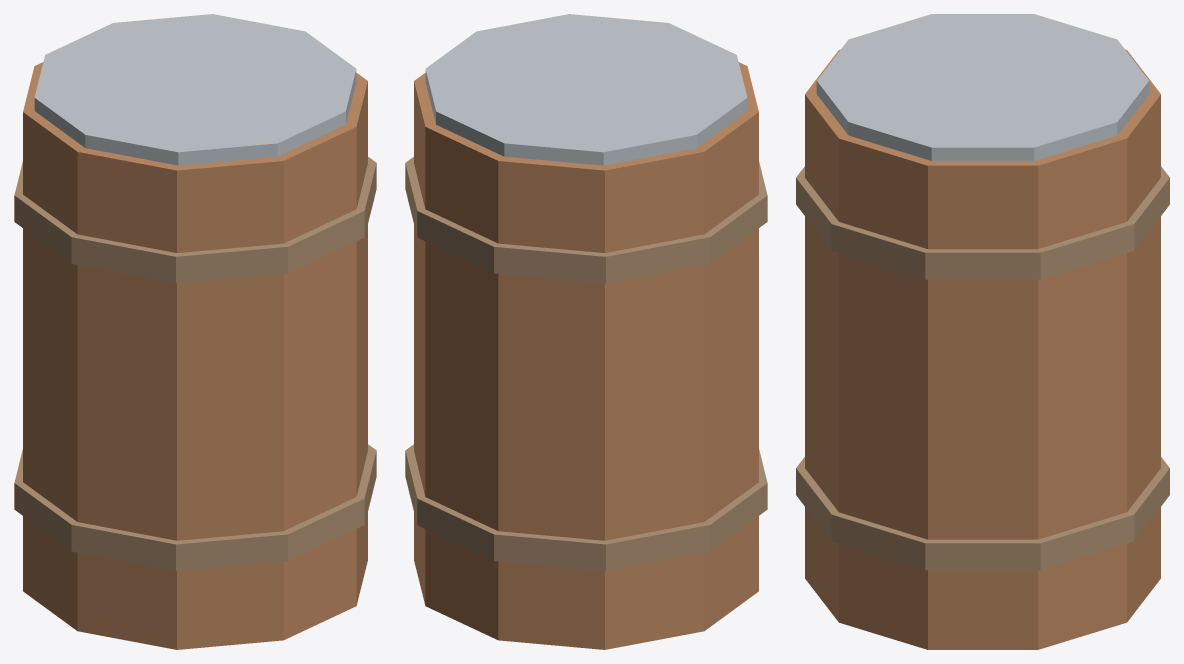
File: RustyBarrel.fbx
3 renders of one model, left to right at view 1: azimuth 30°, elevation 25°; view 2: azimuth 150°, elevation 25°; view 3: azimuth 270°, elevation 25°, orthographic.
Parts seen in each view (by area): view 1: RustyBarrel; view 2: RustyBarrel; view 3: RustyBarrel.
Boxes of the visible parts, x1=… form: RustyBarrel: x1=14, y1=14, x2=376, y2=649; RustyBarrel: x1=405, y1=14, x2=767, y2=649; RustyBarrel: x1=796, y1=14, x2=1169, y2=649.
Size of the model in its own units: 0.5992 by 0.925 by 0.63.
